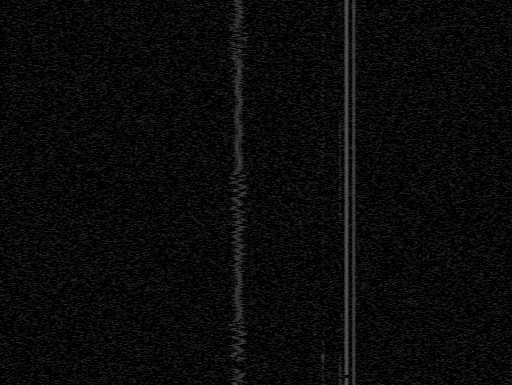wv_cw: (351, 0, 357, 385), (344, 0, 349, 375), (344, 378, 349, 385)
wv_lsb: (337, 115, 343, 224), (320, 336, 326, 385), (338, 354, 343, 385), (321, 124, 325, 158), (321, 77, 325, 103), (337, 2, 343, 18), (338, 290, 342, 313), (321, 171, 325, 193), (321, 208, 325, 229), (338, 263, 342, 283), (321, 104, 325, 123), (321, 232, 325, 248), (321, 3, 325, 19), (321, 45, 325, 59), (321, 194, 325, 207), (338, 62, 342, 75), (338, 49, 342, 61), (321, 60, 325, 70), (321, 318, 325, 327), (338, 254, 342, 262), (321, 37, 325, 44), (338, 228, 342, 235), (338, 93, 342, 100), (338, 79, 342, 86), (338, 34, 342, 41), (338, 23, 342, 30), (321, 30, 325, 36), (321, 269, 325, 275), (321, 262, 325, 268), (321, 256, 325, 261), (321, 249, 325, 254), (321, 165, 325, 170), (321, 159, 325, 164), (338, 284, 342, 289), (338, 238, 342, 243), (339, 108, 342, 114), (322, 276, 325, 282), (321, 72, 325, 76), (321, 284, 325, 288), (322, 23, 325, 27), (338, 350, 342, 353), (339, 330, 342, 334)
wv_wbfm: (226, 0, 251, 361), (228, 369, 248, 385)
